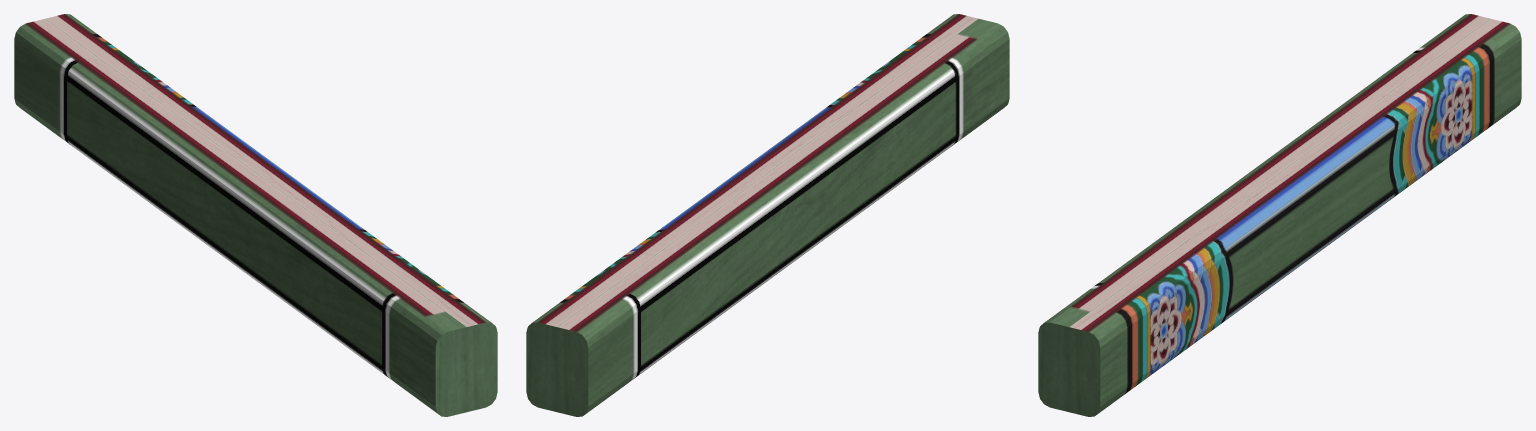
The model's file is SM_SJJ_HG_ChangBang01A.fbx.
3 views of the same model, side by side, from view 1: azimuth 30°, elevation 25°; view 2: azimuth 150°, elevation 25°; view 3: azimuth 330°, elevation 25° (orthographic).
Parts seen in each view (by area): view 1: SM_SJJ_HG_ChangBang01A_LOD0; view 2: SM_SJJ_HG_ChangBang01A_LOD0; view 3: SM_SJJ_HG_ChangBang01A_LOD0.
Boxes of the visible parts, bbox=[...] form: SM_SJJ_HG_ChangBang01A_LOD0: bbox=[14, 14, 497, 416]; SM_SJJ_HG_ChangBang01A_LOD0: bbox=[526, 14, 1009, 416]; SM_SJJ_HG_ChangBang01A_LOD0: bbox=[1038, 14, 1521, 416].
Size of the model in its own units: 26.1 by 308 by 34.31.
Materials: 1 (1 with a texture image).
